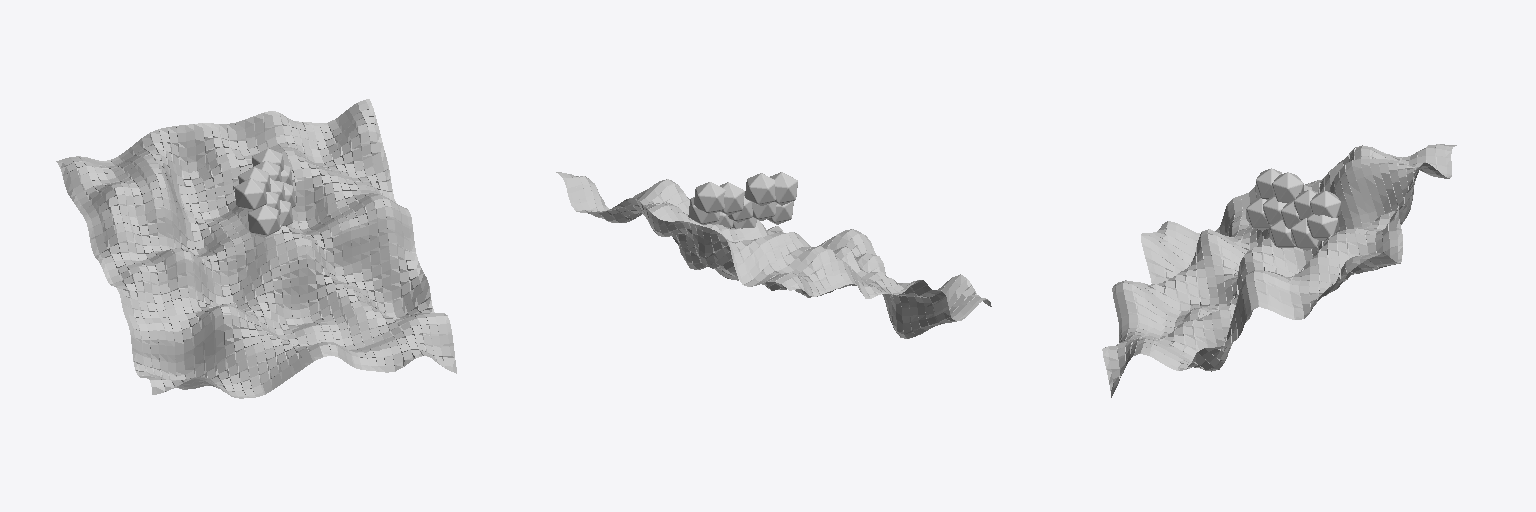
File: ScanningElectron.obj
The picture shows the model from 3 angles: view 1: azimuth 30°, elevation 25°; view 2: azimuth 150°, elevation 25°; view 3: azimuth 270°, elevation 25°; orthographic projection.
Parts seen in each view (by area): view 1: Grid, Icosphere.003_Icosphere.006, Icosphere.004_Icosphere.006; view 2: Grid, Icosphere.002_Icosphere.006, Icosphere.009_Icosphere.006, Icosphere.003_Icosphere.006, Icosphere.001_Icosphere.006; view 3: Grid, Icosphere.002_Icosphere.006, Icosphere.009_Icosphere.006, Icosphere.008_Icosphere.006, Icosphere.007_Icosphere.006.
Part boxes in pixels (x1,y1,x2,y2): Grid: (56,99,456,398); Icosphere.003_Icosphere.006: (234,178,266,211); Icosphere.004_Icosphere.006: (248,205,280,237); Grid: (556,172,991,338); Icosphere.002_Icosphere.006: (745,173,775,205); Icosphere.009_Icosphere.006: (694,182,725,213); Icosphere.003_Icosphere.006: (770,172,797,205); Icosphere.001_Icosphere.006: (720,182,744,215); Grid: (1102,144,1456,397); Icosphere.002_Icosphere.006: (1272,172,1303,202); Icosphere.009_Icosphere.006: (1310,191,1340,217); Icosphere.008_Icosphere.006: (1307,214,1338,240); Icosphere.007_Icosphere.006: (1291,218,1319,250).
Bounding box in the file's own units: 20.04 × 9.93 × 18.84.